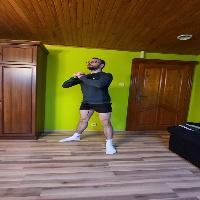squats: (61, 54, 121, 156)
